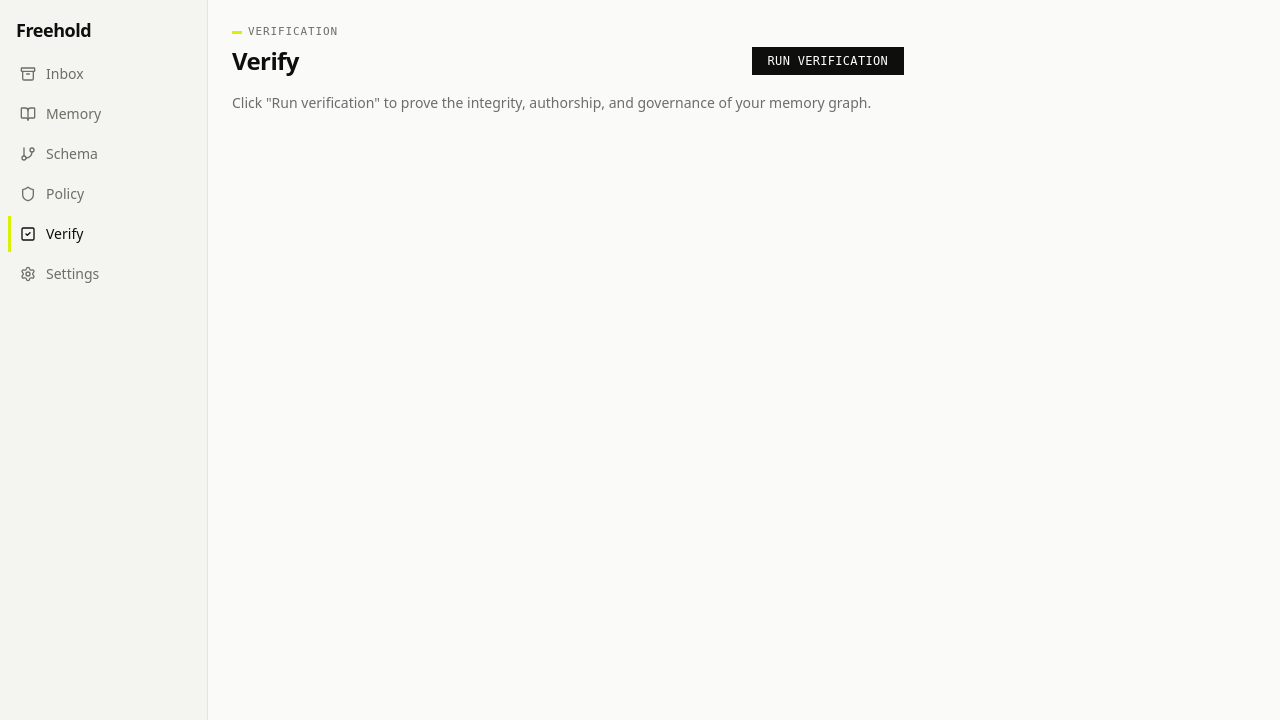
Test: Verify › shows degraded state with reason links when items degraded
This screenshot has width=1280, height=720.
Step 1. Click the button with test id "verify-run" → (828, 60), box [752,46,904,74]
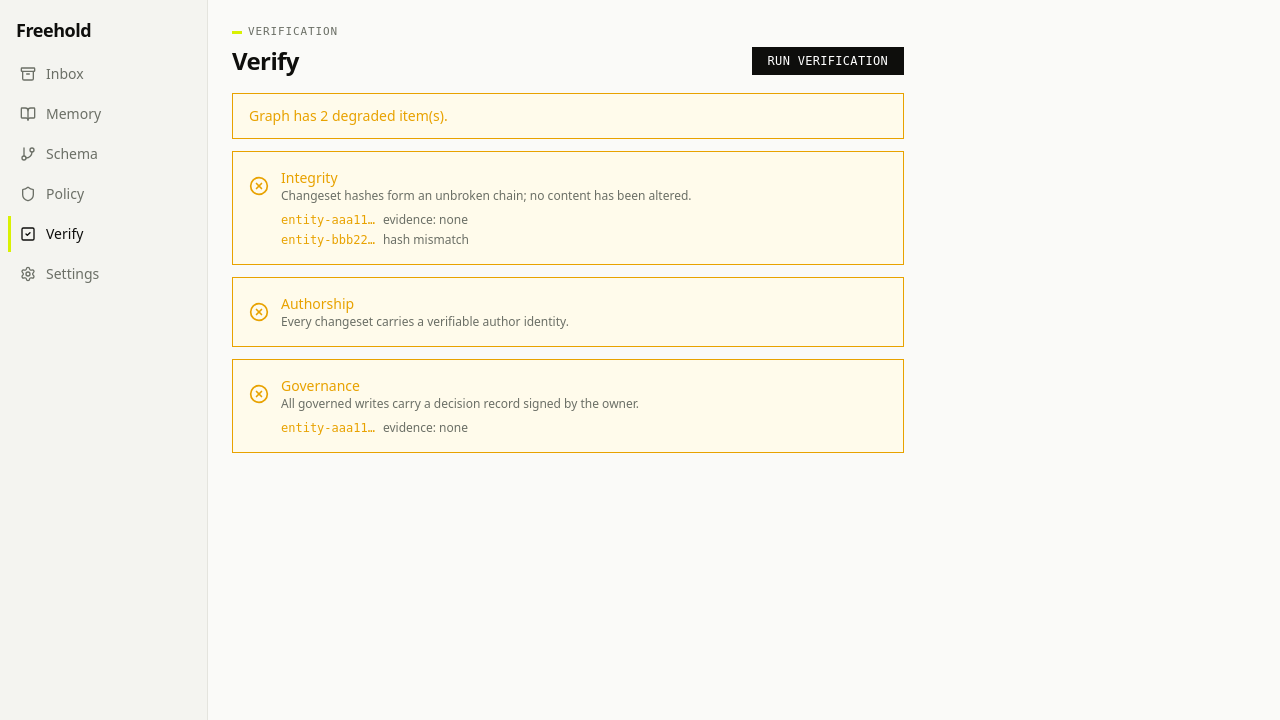
Check: the text "Graph has 2 degraded item(s)." is shown, box [232,92,904,138]
Check: the text with test id "verify-summary" shows "2 degraded item", box [249,106,448,124]
Check: the text "evidence: none" below "Integrity" is shown, box [383,210,468,228]
